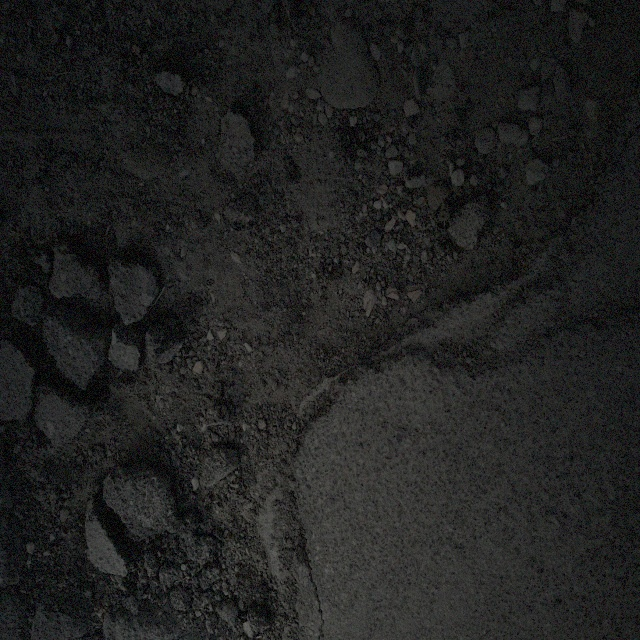pothole: (292, 122, 565, 438)
